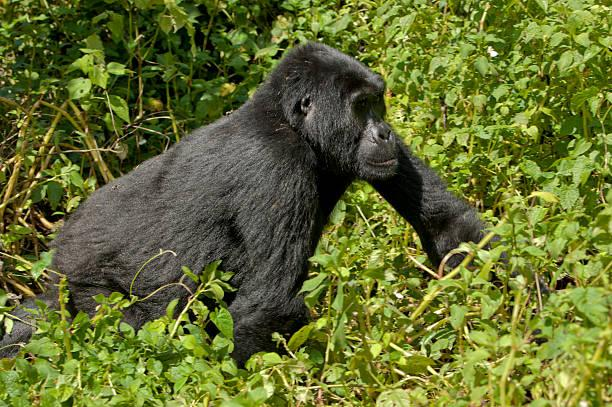goriile_montagne: (24, 36, 534, 354)
